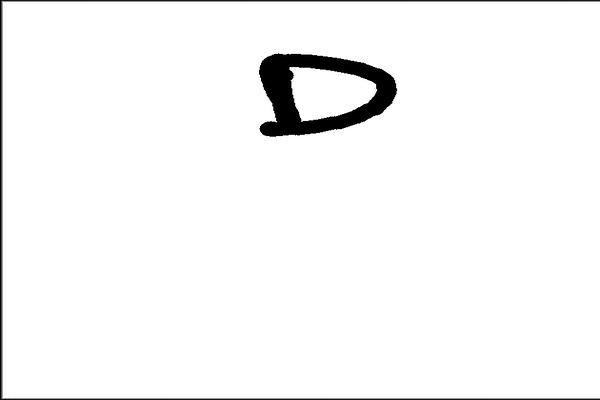D: (253, 45, 401, 144)
